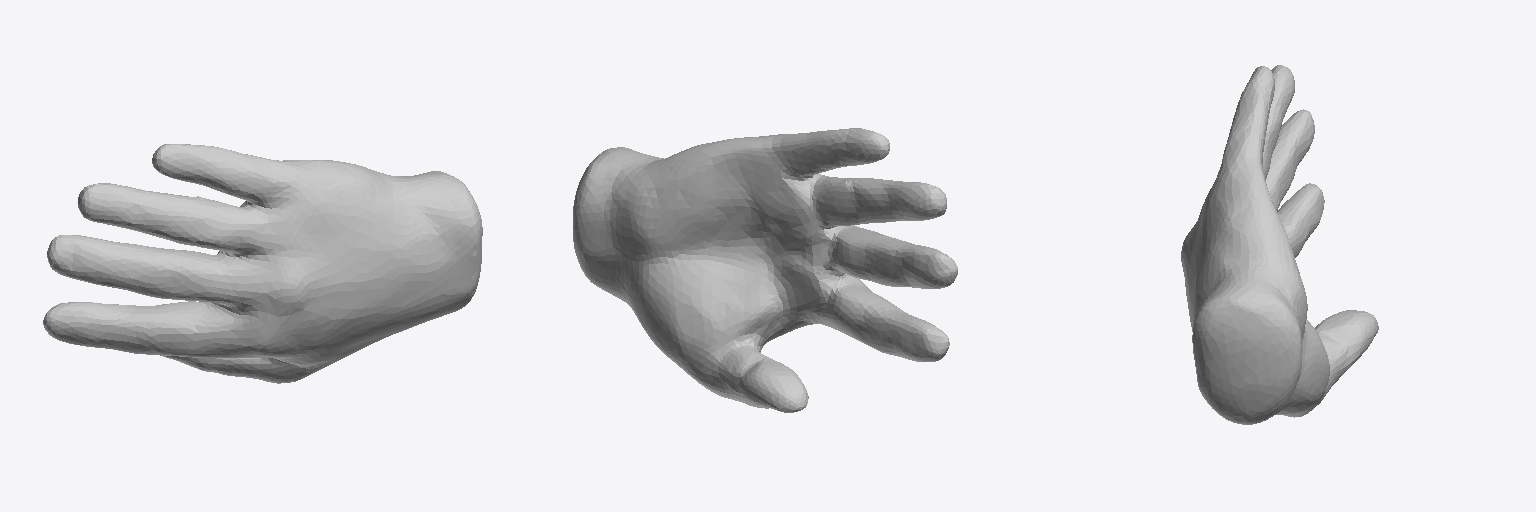
File: phands.obj
3 views of the same model, side by side, from view 1: azimuth 30°, elevation 25°; view 2: azimuth 150°, elevation 25°; view 3: azimuth 270°, elevation 25° (orthographic).
Bounding box in the file's own units: 1.06 × 0.7209 × 0.4585.